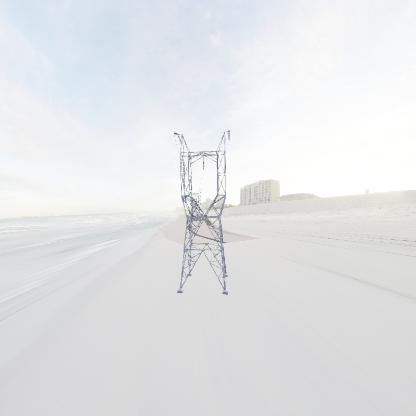tower: (169, 126, 235, 298)
